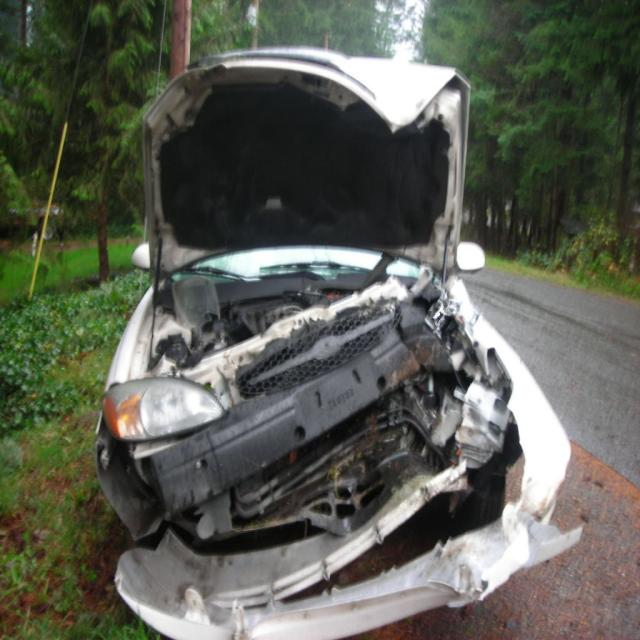crush: (96, 270, 582, 640)
